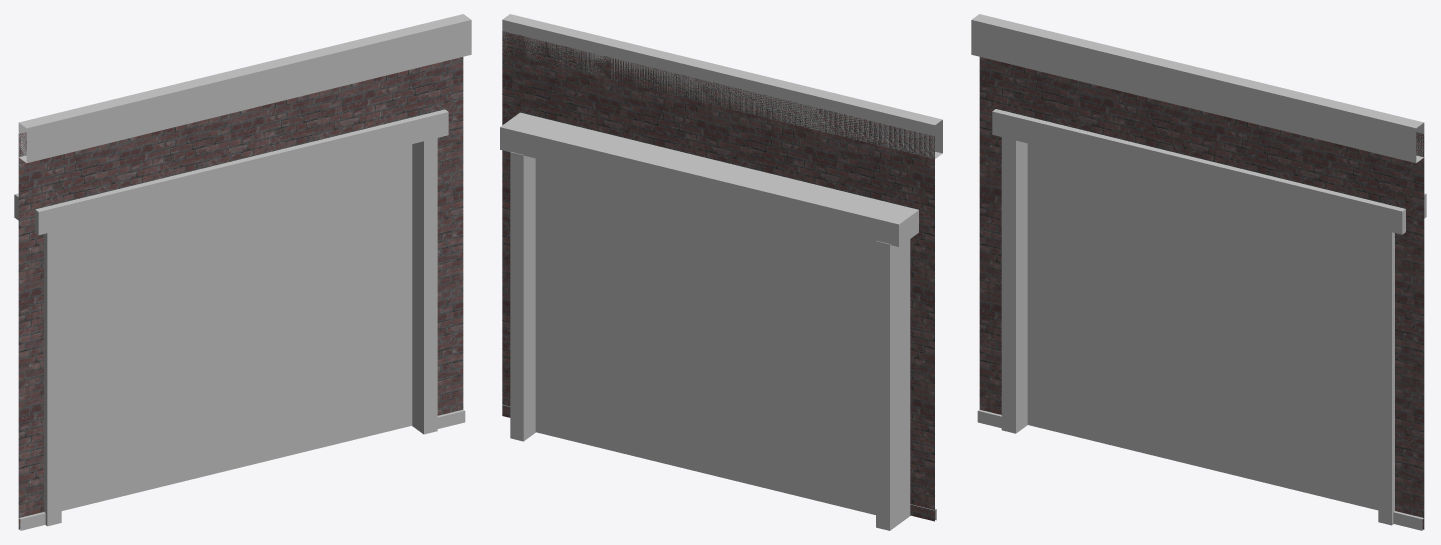
Rendered from Wall_A_Brick_Shops_B_4x.FBX.
The picture shows the model from 3 angles, left to right: view 1: azimuth 30°, elevation 25°; view 2: azimuth 150°, elevation 25°; view 3: azimuth 330°, elevation 25°; orthographic projection. The views are drawn at different scales.
Parts seen in each view (by area): view 1: Wall_A_Brick_Shops_B_4x; view 2: Wall_A_Brick_Shops_B_4x; view 3: Wall_A_Brick_Shops_B_4x.
Part boxes in pixels (<box>): Wall_A_Brick_Shops_B_4x: <box>14,14,471,530</box>; Wall_A_Brick_Shops_B_4x: <box>500,14,942,530</box>; Wall_A_Brick_Shops_B_4x: <box>971,14,1426,530</box>.
Bounding box in the file's own units: 400 × 350 × 45.14.
